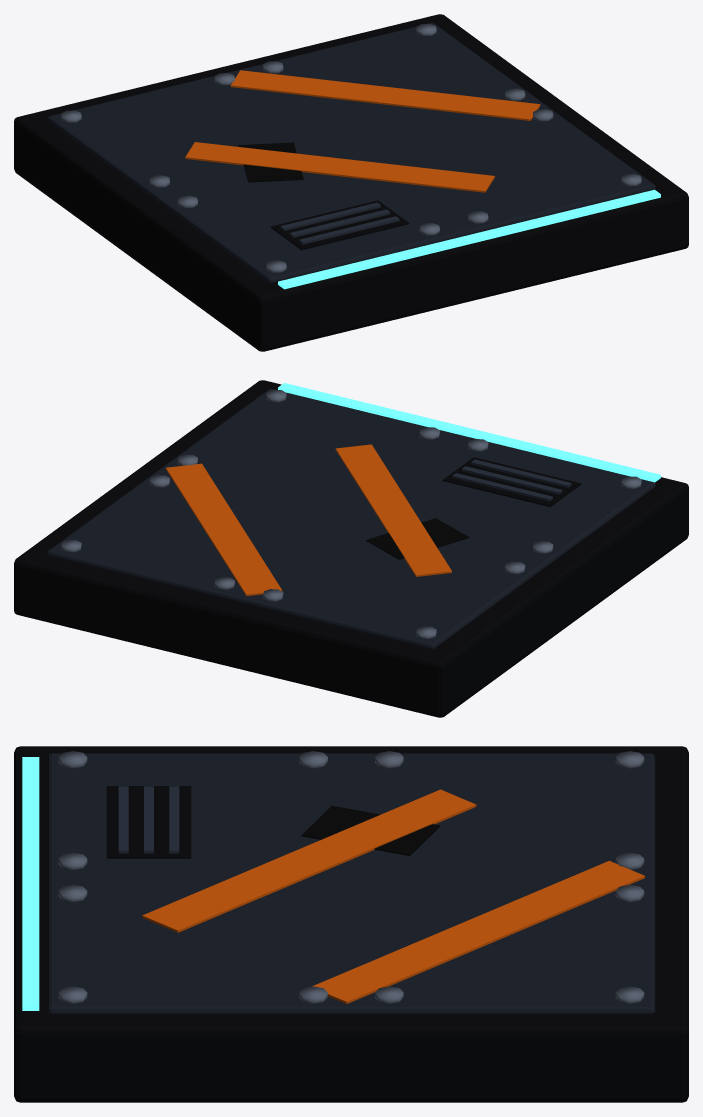
The model's file is FloorTileC.glb.
3 renders of one model, top to bottom at view 1: azimuth 30°, elevation 25°; view 2: azimuth 150°, elevation 25°; view 3: azimuth 270°, elevation 25°, orthographic. The views are drawn at different scales.
Parts seen in each view (by area): view 1: Body, Groove_Glow; view 2: Body, Groove_Glow; view 3: Body, Groove_Glow.
Boxes of the visible parts, box(x1,y1,x2,y2) form: Body: box(14, 14, 688, 351); Groove_Glow: box(278, 189, 660, 289); Body: box(14, 380, 688, 717); Groove_Glow: box(278, 383, 660, 482); Body: box(14, 746, 688, 1102); Groove_Glow: box(22, 757, 39, 1010).
Bounding box in the file's own units: 8 × 1.15 × 8.
